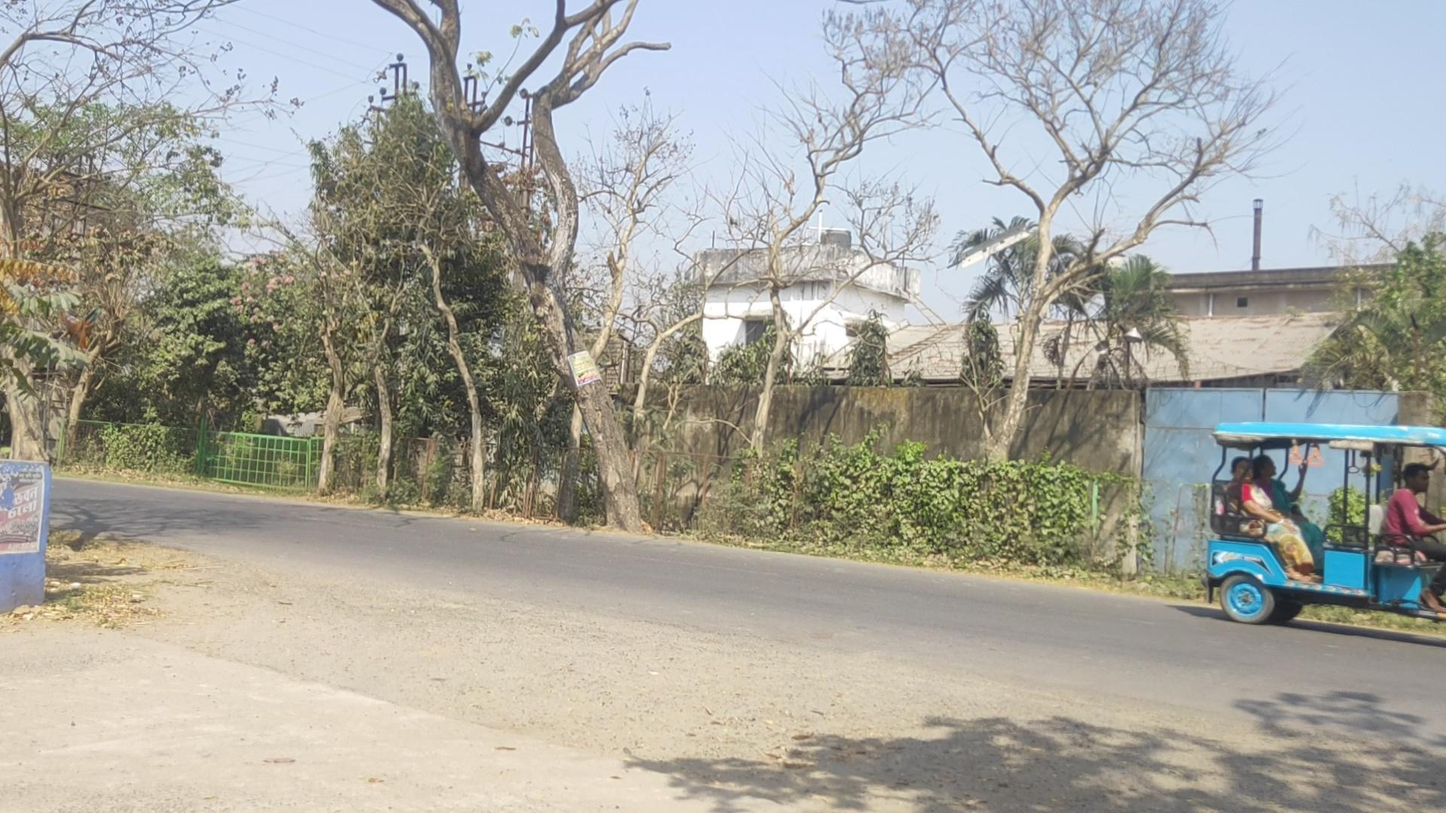Auto: (1204, 422, 1446, 647)
